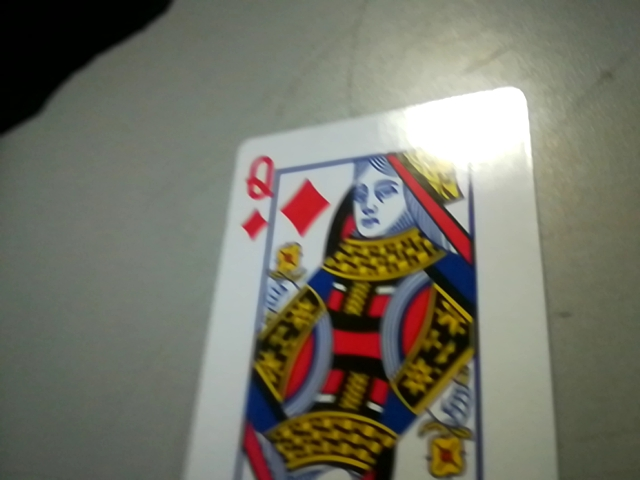fk q: (227, 150, 285, 242)
